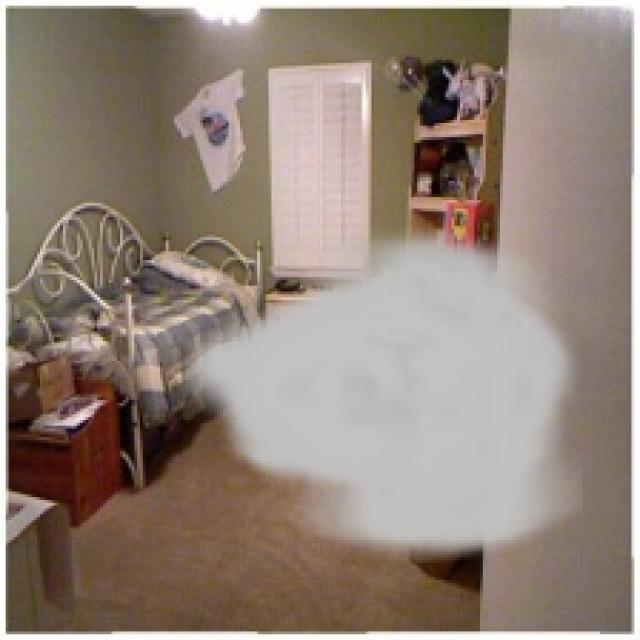Smoke: (177, 220, 583, 563)
